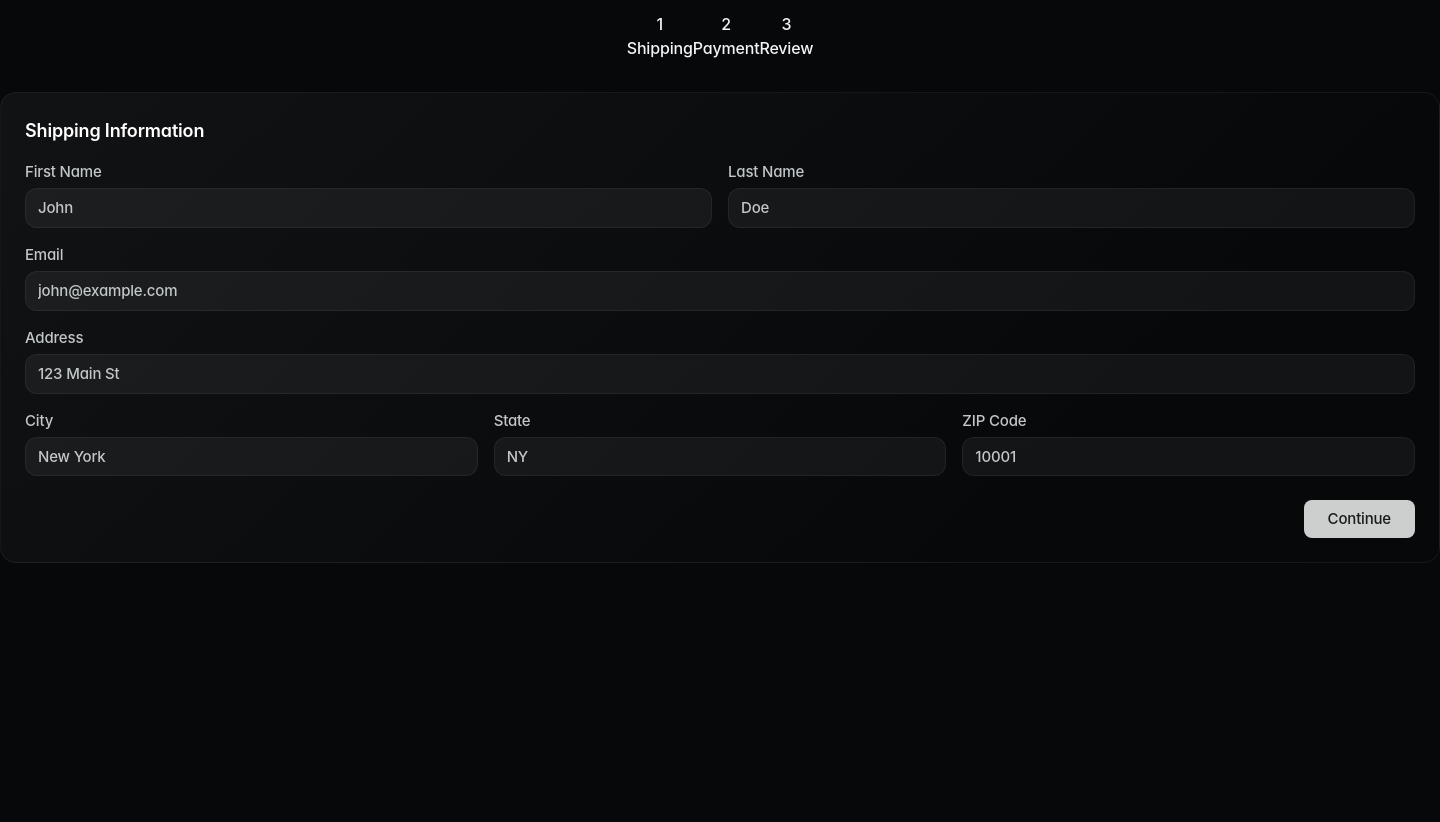
it: CheckoutForm › step navigation › advances to review step
This screenshot has width=1440, height=822.
Go to payment
Click the button "Continue" at (1359, 519), box [1304, 500, 1415, 538]
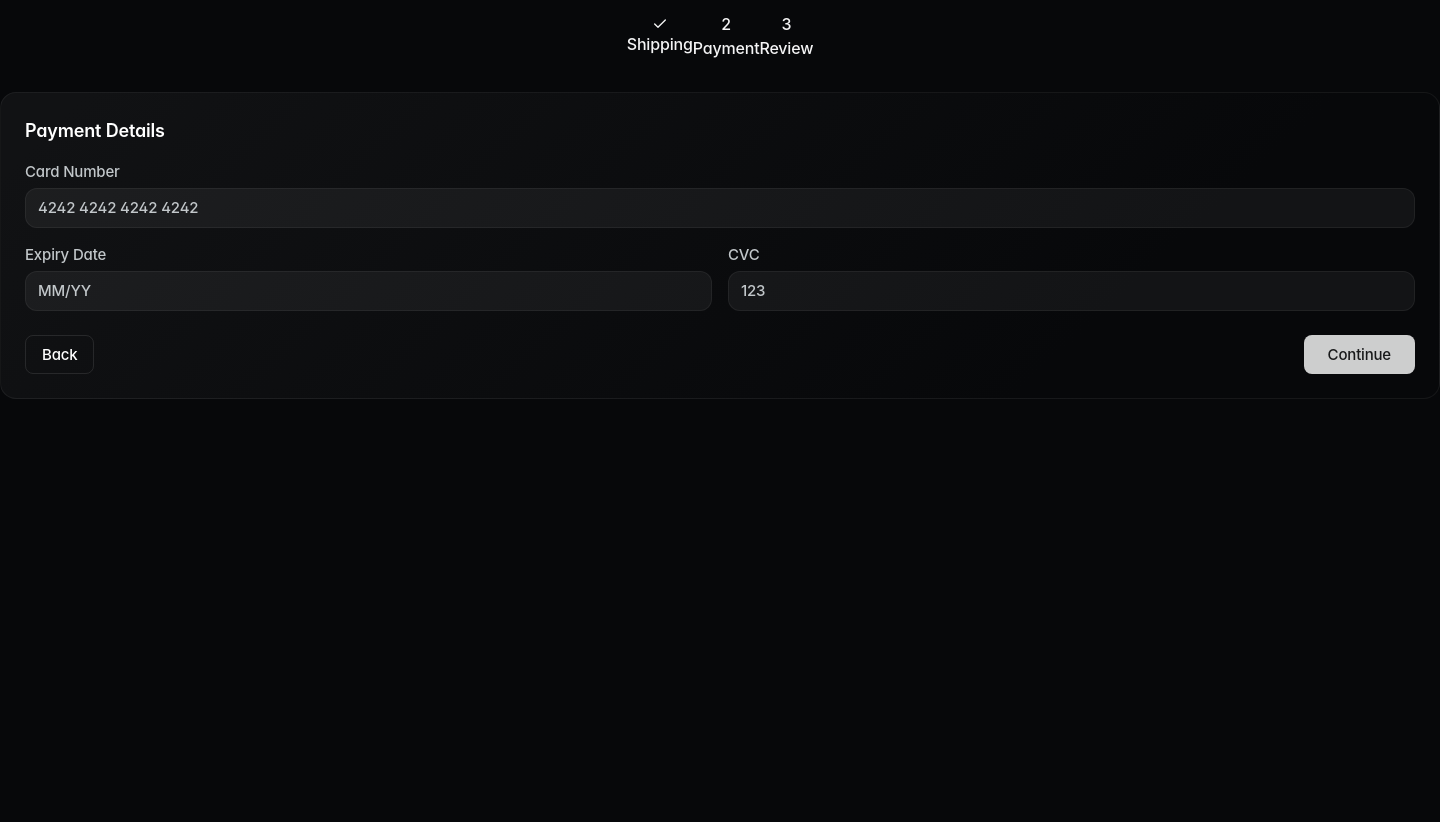
Go to review
Click the button "Continue" at (1359, 354), box [1304, 335, 1415, 374]
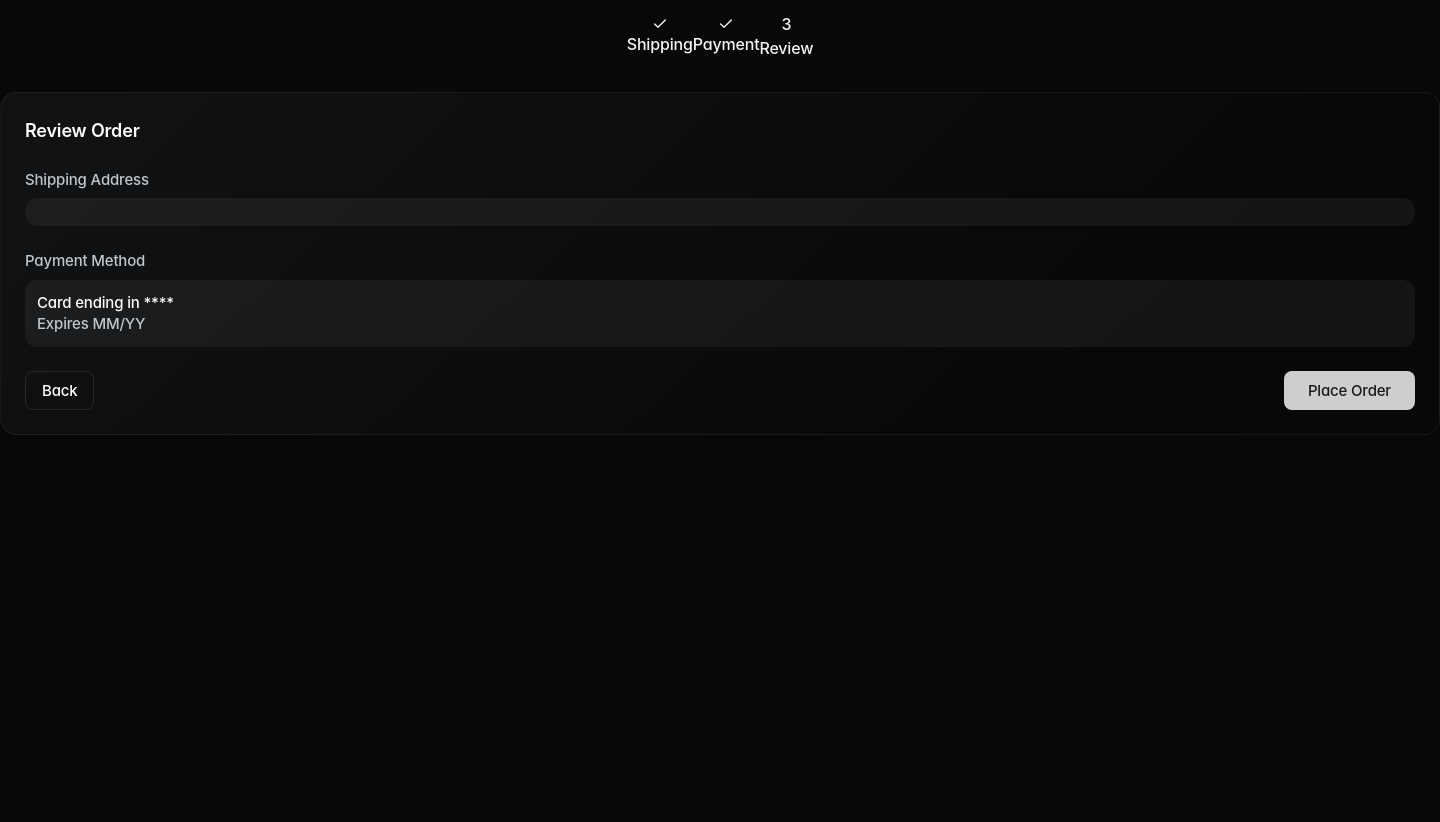
Expected: the heading "Review Order" is shown, [25, 120, 140, 141]
